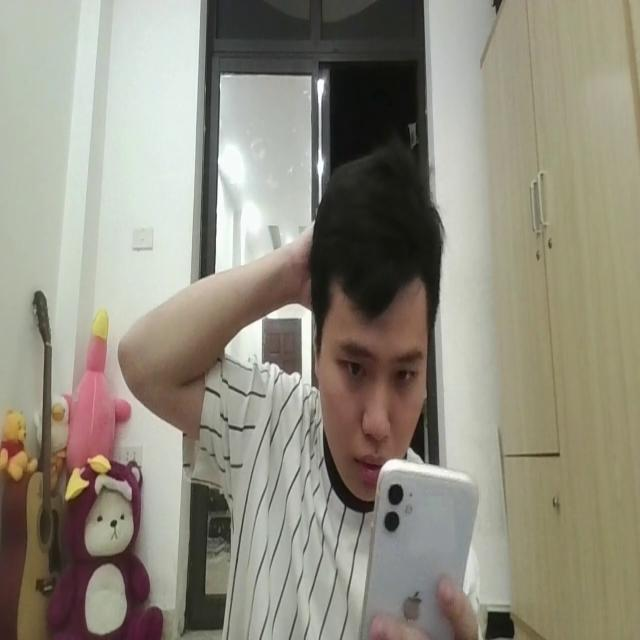phone: (360, 453, 482, 640)
student: (116, 153, 486, 640)
